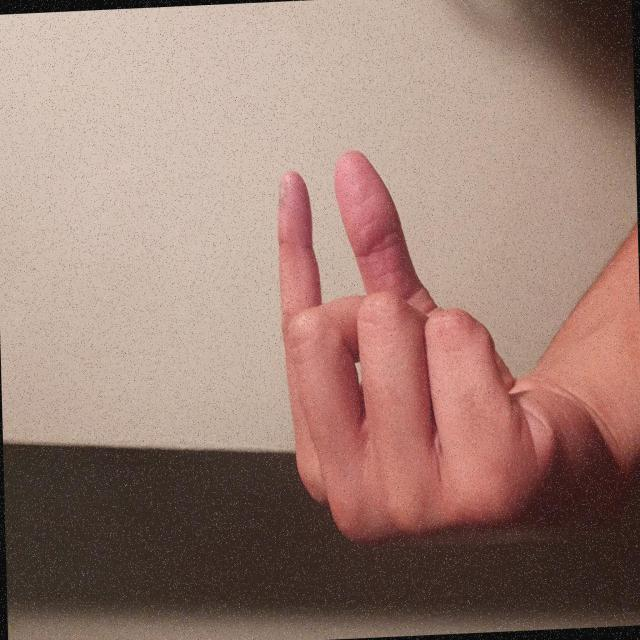G: (58, 353, 380, 640)
